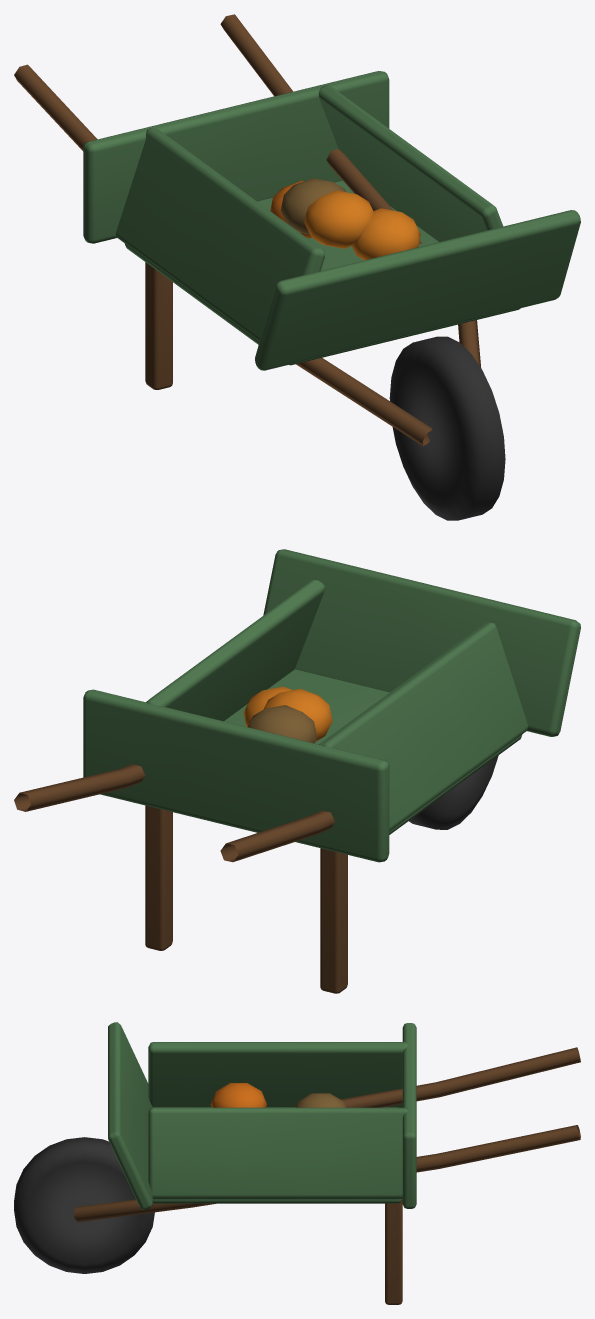
The model's file is wheelbarrow.glb.
The picture shows the model from 3 angles, top to bottom: view 1: azimuth 30°, elevation 25°; view 2: azimuth 150°, elevation 25°; view 3: azimuth 270°, elevation 25°; orthographic projection. The views are drawn at different scales.
Visible parts, largest first — view 1: wheelbarrow_main; view 2: wheelbarrow_main; view 3: wheelbarrow_main.
Part boxes in pixels (box(x1,y1,x2,y2)): wheelbarrow_main: box(14, 14, 580, 520); wheelbarrow_main: box(14, 549, 580, 993); wheelbarrow_main: box(14, 1022, 580, 1304).
Size of the model in its own units: 0.76 by 0.606 by 1.61.
